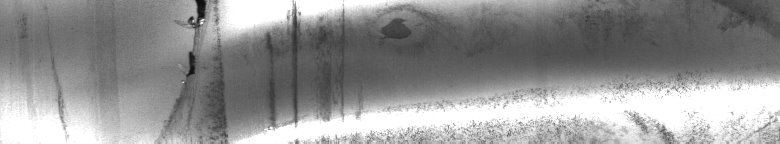ke: (177, 4, 684, 136)
